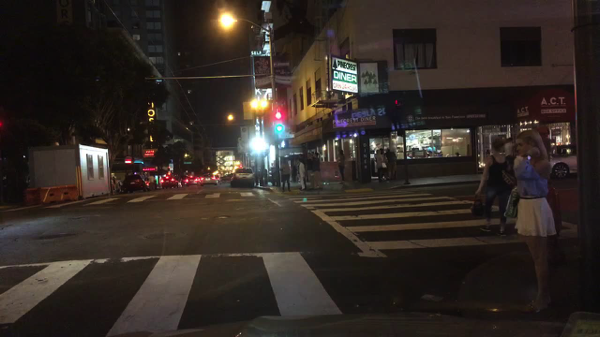car: (545, 143, 581, 180), (229, 165, 255, 188), (125, 174, 150, 192), (160, 176, 176, 190), (201, 173, 217, 187), (213, 175, 222, 182), (183, 177, 189, 185), (197, 177, 201, 184)
person: (503, 129, 555, 314), (470, 137, 514, 238), (280, 159, 293, 193), (502, 136, 514, 171), (385, 148, 396, 180), (297, 157, 307, 191), (378, 148, 389, 178), (336, 150, 345, 185), (375, 148, 383, 182), (307, 153, 314, 189), (257, 169, 264, 187), (264, 168, 270, 187), (112, 177, 118, 193), (177, 175, 182, 188), (154, 178, 158, 190)
traffic light: (274, 111, 284, 135), (280, 139, 289, 150), (394, 98, 398, 110)
traffic sign: (184, 162, 192, 165)
